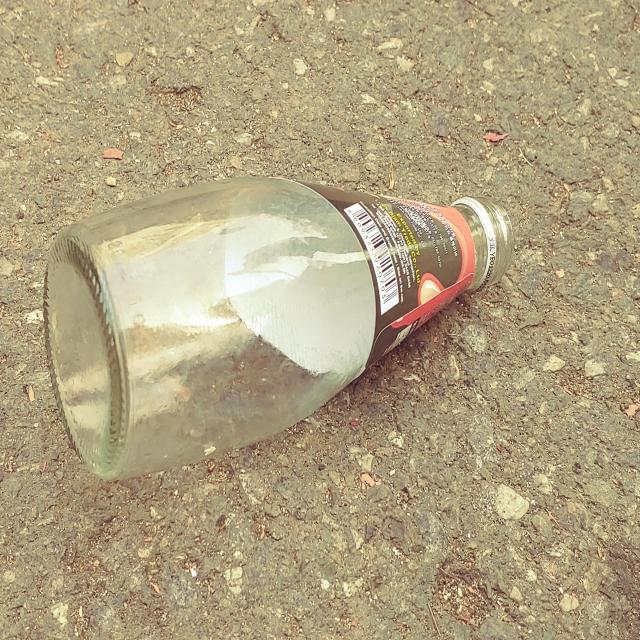glass: (44, 177, 514, 480)
